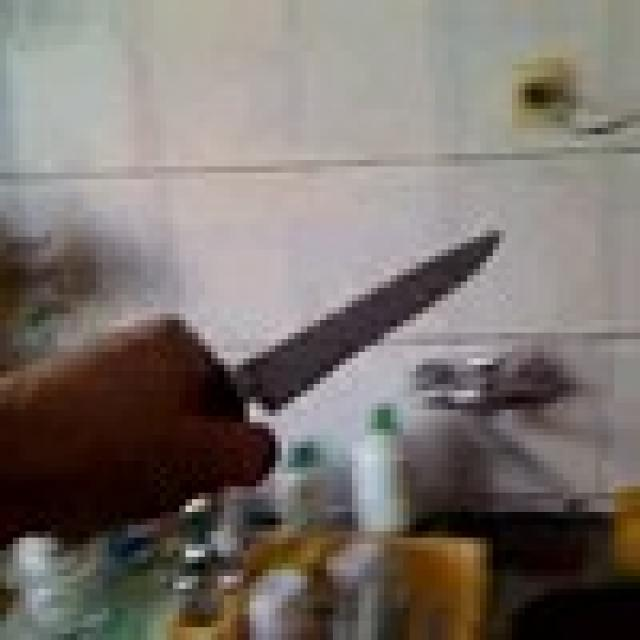knife: (230, 211, 512, 435)
